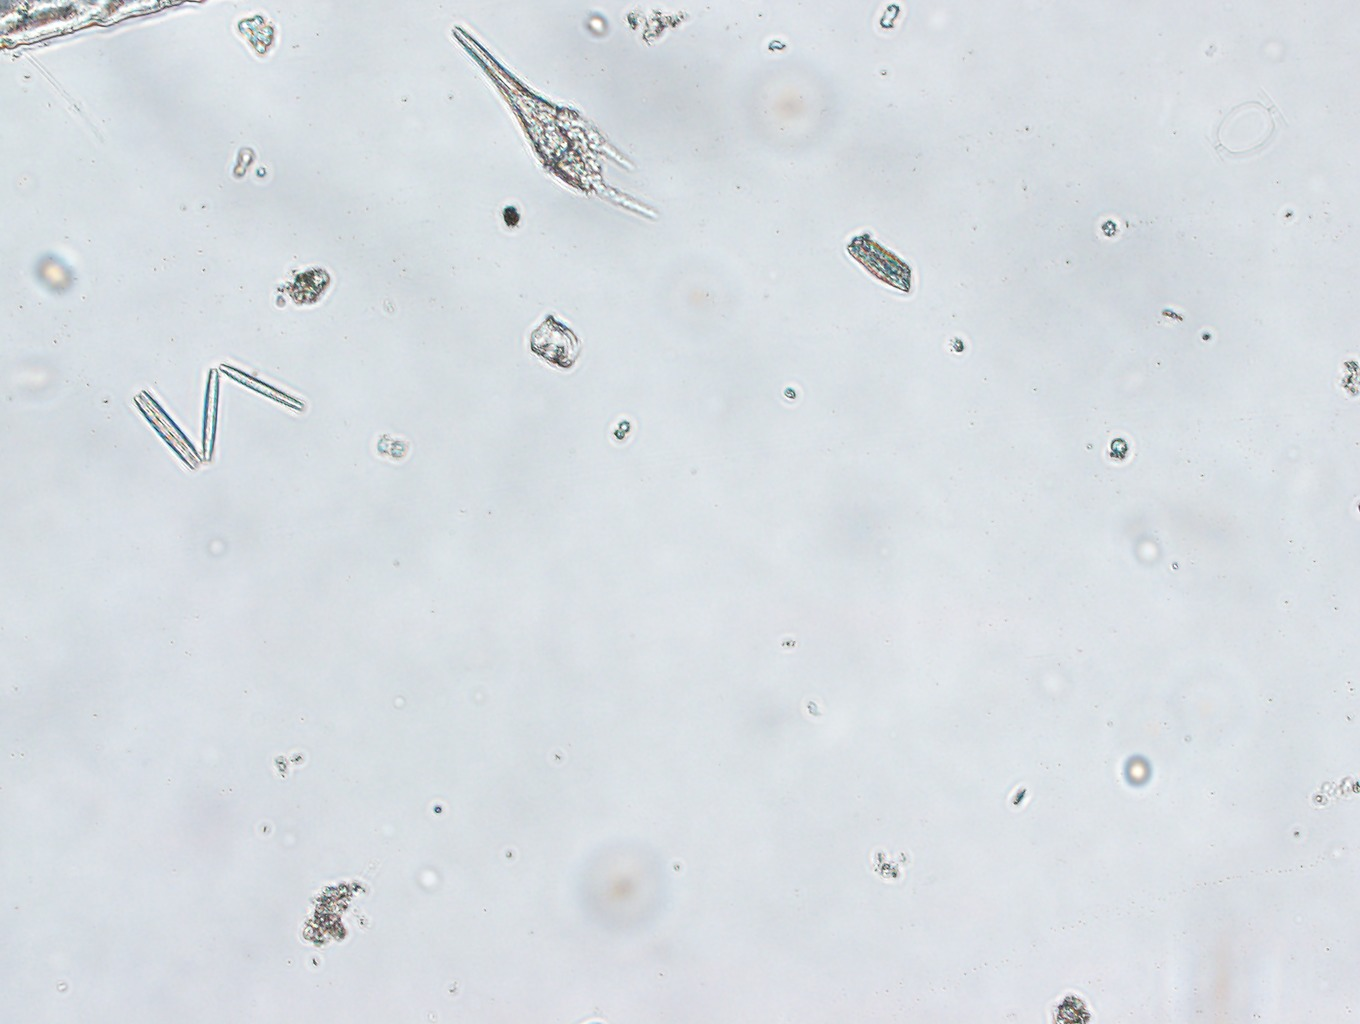ceratium furca: (442, 22, 658, 230)
thalassionema nitzschioides: (119, 350, 310, 470)
